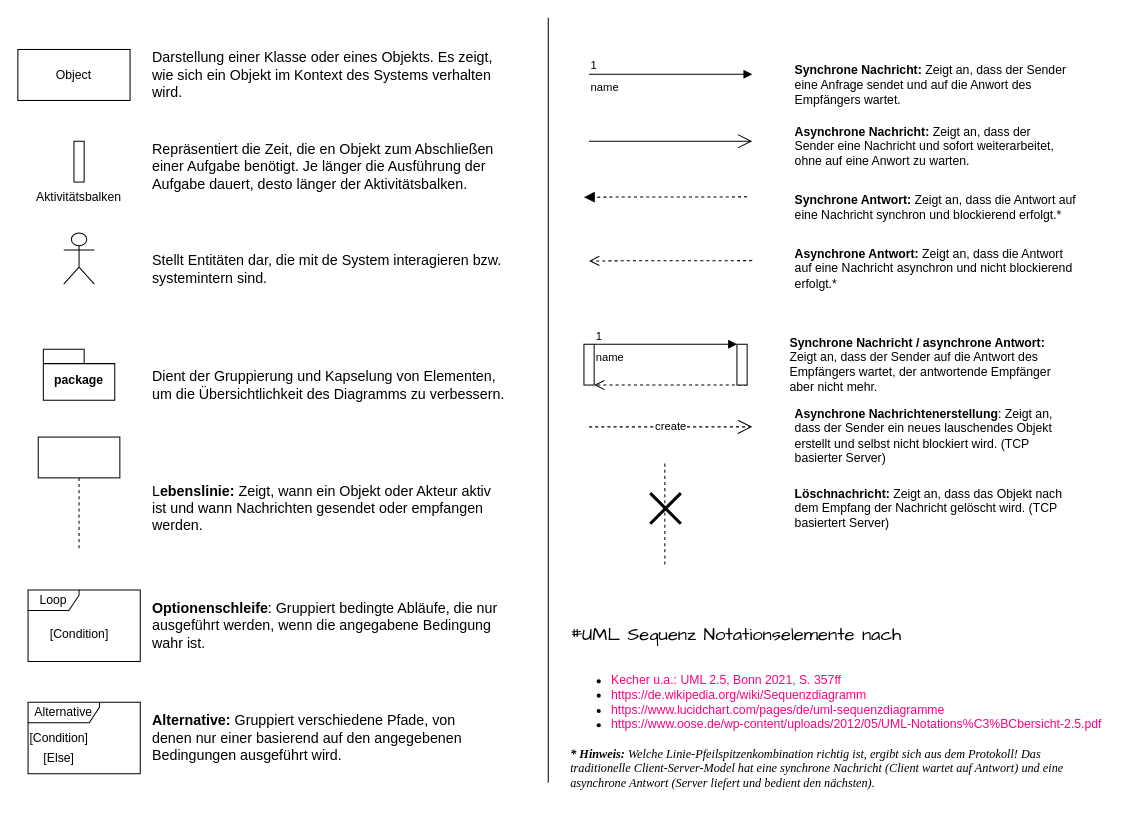
Some shapes in this 1137 by 822 pixel diagram are drawn without their labels. Here are the shapes that lost their labels. From the top down, the centre of each, then its label:
point (78, 258): Actor
point (78, 492): :Object
